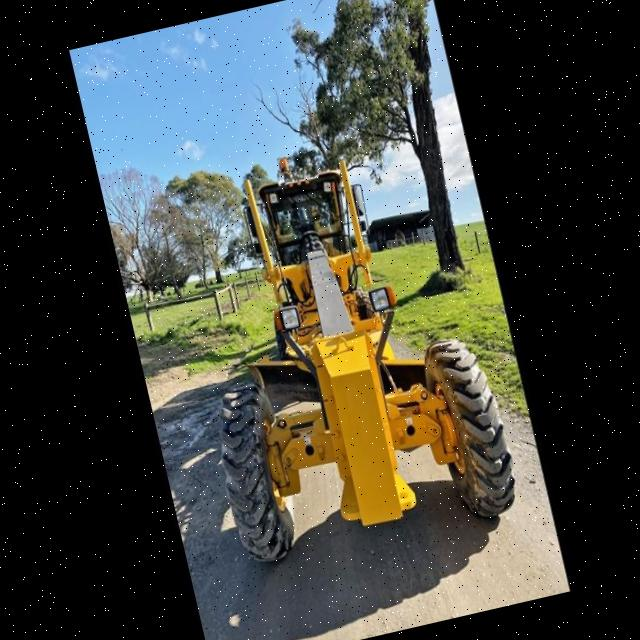Grader: (152, 119, 530, 579)
